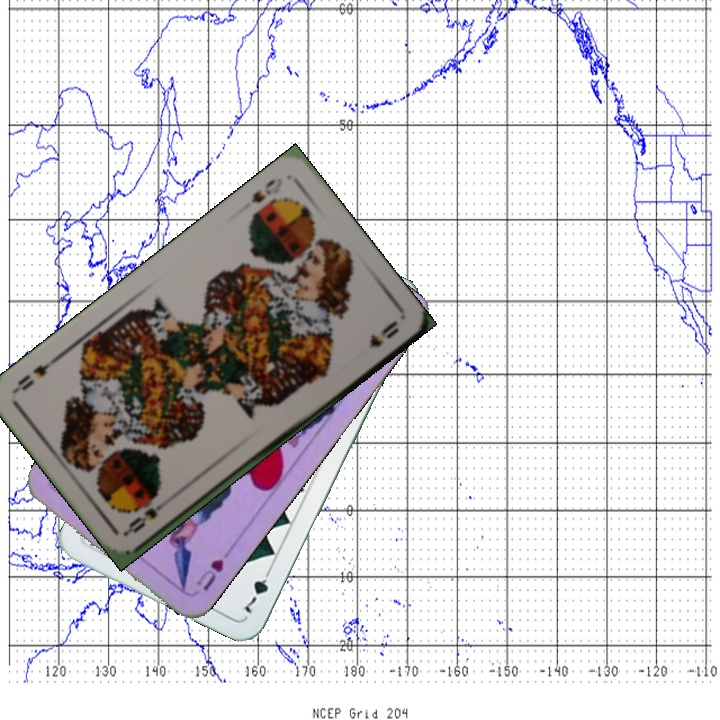G7: (240, 562, 275, 617)
HU: (191, 555, 227, 593)
SO: (122, 494, 173, 536), (246, 174, 285, 206)
